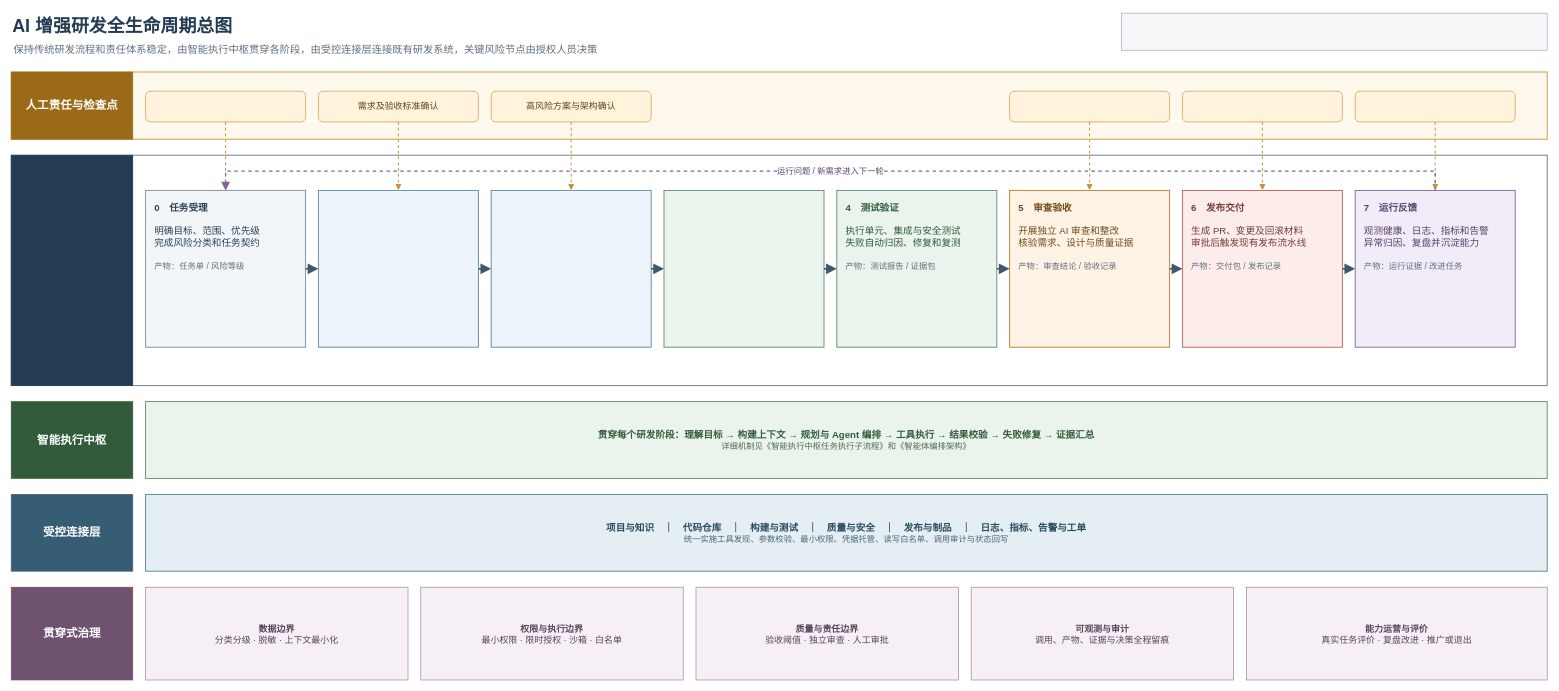
The diagram is 1559 pixels wide and 691 high, and some of its shapes have lost their labels. The shapes that lost their labels are listed below. From the top down, each one's centre as x and y in pixels, then its label:
(1334,31): 阅读方式 横向：传统研发阶段 ｜ 纵向：人工责任、智能执行、受控连接与安全治理
(225,106): 目标、范围与风险确认
(1089,106): 质量验收与整改确认
(1262,106): 核心合并与生产发布审批
(1435,106): 重大异常、回滚与责任决策
(72,270): 传统研发生命周期
(398,268): 1 需求分析 获取业务与项目上下文 澄清需求、约束和验收条件 产物：需求说明 / 验收标准
(570,268): 2 方案设计 分析变更影响与技术风险 设计架构、接口与数据方案 产物：设计方案 / 实施计划
(743,268): 3 开发实施 任务拆分与专业 Agent 编排 在受控分支和沙箱中实施 产物：代码 / 配置 / 文档
